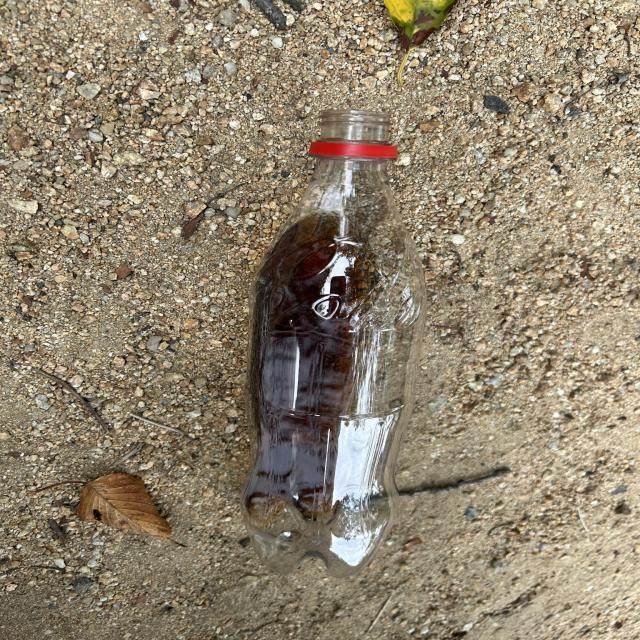low: (241, 109, 426, 576)
